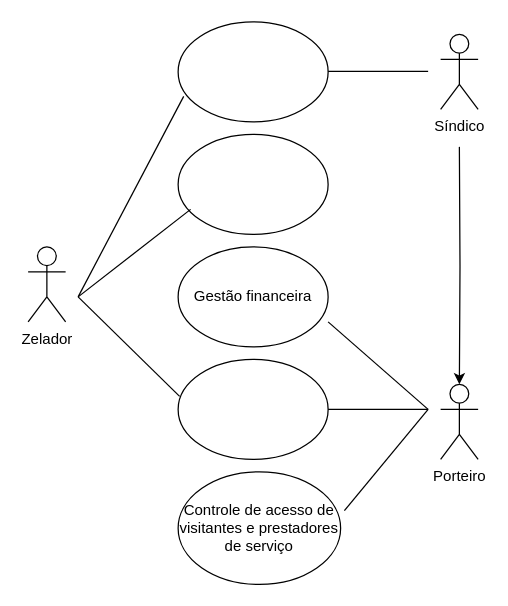
The diagram is 508 pixels wide and 606 high, and some of its shapes have lost their labels. The shapes that lost their labels are listed below. From the top down, each one's box as (x1, y1, x2, y2) in pixels, then its label:
(177, 21, 328, 122): Cadastro de moradores
(177, 133, 328, 234): Controle de acesso
(177, 358, 328, 459): Reserva de áreas comuns
